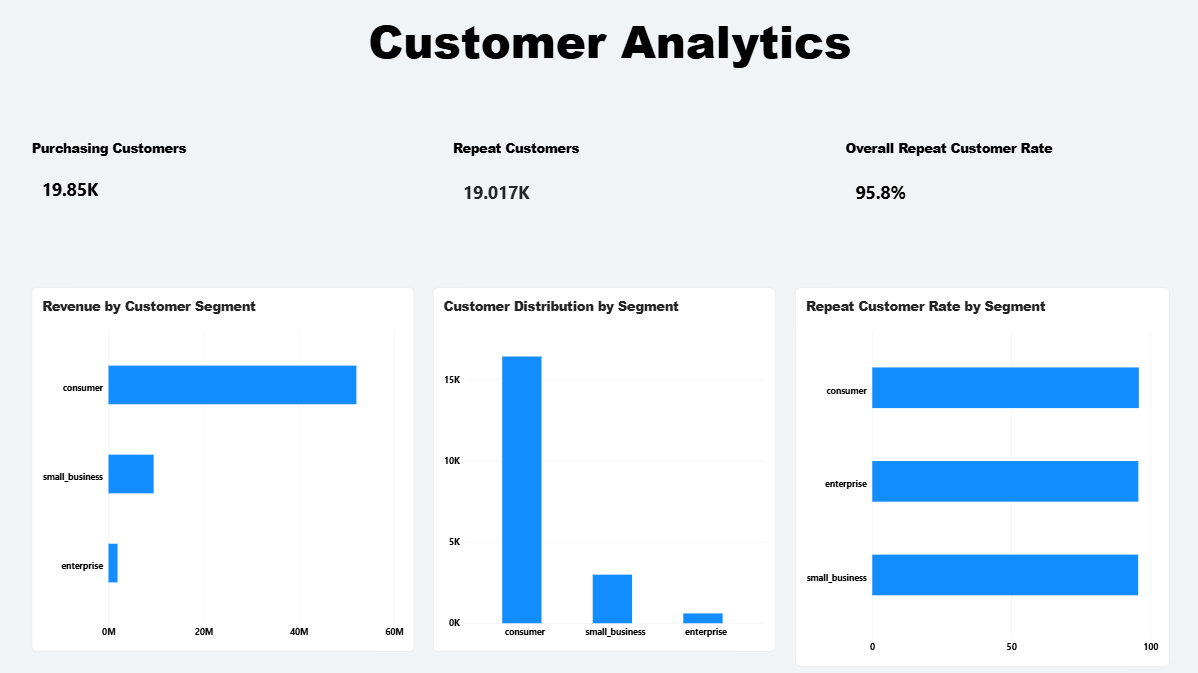

The dashboard page shown, as its layout file describes it:
{"tool":"powerbi","page":{"name":"Customer Analytics","canvas":[1920,1080],"ordinal":2},"visuals":[{"type":"clusteredBarChart","title":"Revenue by Customer Segment","fields":{"Category":["analytics_dbt mart_customer_segment_performance.customer_segment"],"Y":["Sum(analytics_dbt mart_customer_segment_performance.total_revenue)"]},"box":[54,460,612,582],"z":0},{"type":"clusteredColumnChart","title":"Customer Distribution by Segment","fields":{"Category":["analytics_dbt mart_customer_segment_performance.customer_segment"],"Y":["Sum(analytics_dbt mart_customer_segment_performance.total_customers)"]},"box":[696,460,548,582],"z":1},{"type":"clusteredBarChart","title":"Repeat Customer Rate by Segment","fields":{"Category":["analytics_dbt mart_customer_segment_performance.customer_segment"],"Y":["Avg(analytics_dbt mart_customer_segment_performance.repeat_customer_rate)"]},"box":[1276,460,598,606],"z":2},{"type":"cardVisual","title":"Purchasing Customers","fields":{"Data":["Sum(analytics_dbt mart_customer_segment_performance.purchasing_customers)"]},"box":[54,222,486,126],"z":3},{"type":"cardVisual","title":"Repeat Customers","fields":{"Data":["Sum(analytics_dbt mart_customer_segment_performance.repeat_customers)"]},"box":[728,222,498,126],"z":4},{"type":"cardVisual","title":"Overall Repeat Customer Rate","fields":{"Data":["analytics_dbt mart_customer_segment_performance.Overall Repeat Rate"]},"box":[1356,222,518,126],"z":5},{"type":"textbox","box":[54,14,1850,150],"z":6}]}

Visuals, with their boxes in screenshot pixels (x1, y1, x2, y2), scaled from the page's 1920x1080 canvas onto the 1198x673 screenshot:
"Revenue by Customer Segment" clusteredBarChart: [left=34, top=287, right=416, bottom=649]
"Customer Distribution by Segment" clusteredColumnChart: [left=434, top=287, right=776, bottom=649]
"Repeat Customer Rate by Segment" clusteredBarChart: [left=796, top=287, right=1169, bottom=664]
"Purchasing Customers" cardVisual: [left=34, top=138, right=337, bottom=217]
"Repeat Customers" cardVisual: [left=454, top=138, right=765, bottom=217]
"Overall Repeat Customer Rate" cardVisual: [left=846, top=138, right=1169, bottom=217]
textbox: [left=34, top=9, right=1188, bottom=102]
